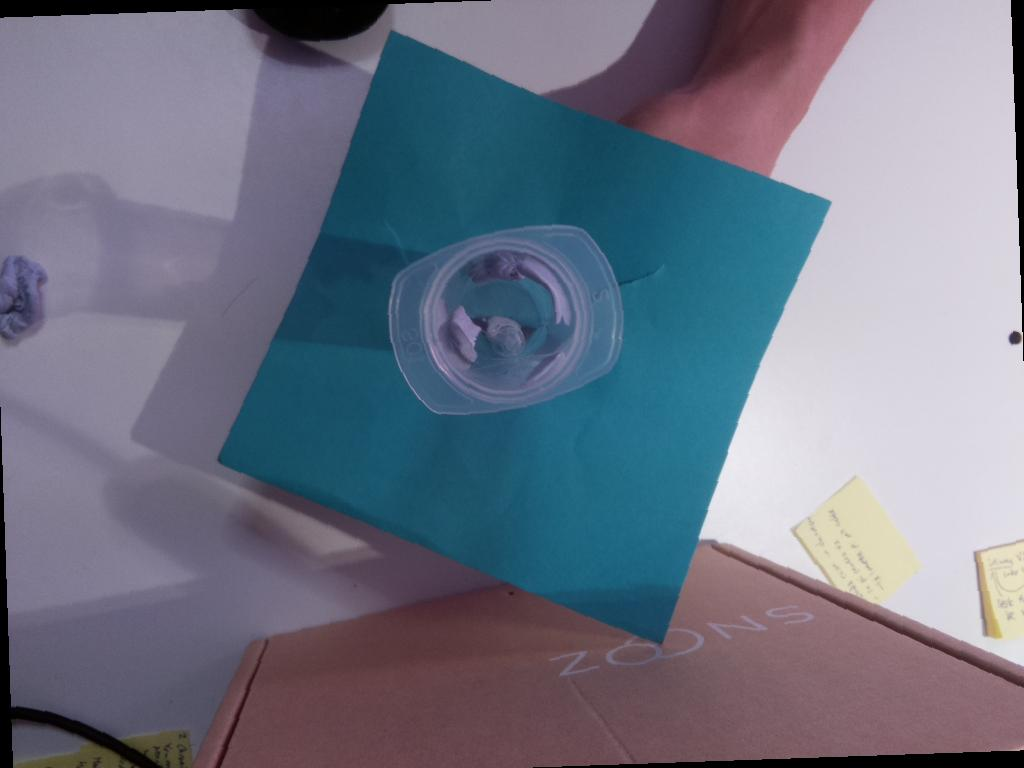dirty: (378, 216, 630, 417)
